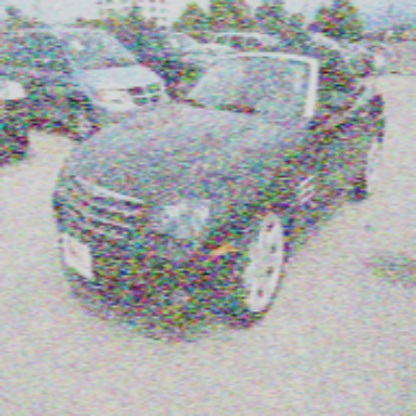Vehicle: (53, 50, 386, 323)
